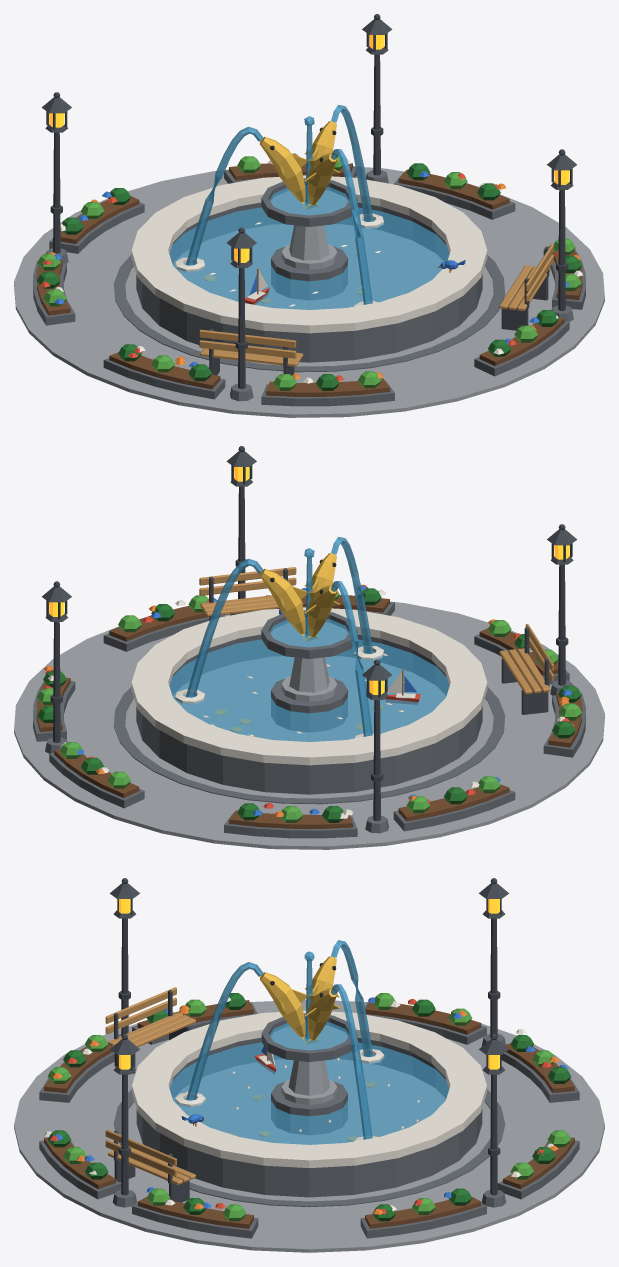
The model's file is park-fish-fountain.glb.
The picture shows the model from 3 angles, top to bottom: view 1: azimuth 30°, elevation 25°; view 2: azimuth 150°, elevation 25°; view 3: azimuth 270°, elevation 25°; orthographic projection.
Visible parts, largest first — view 1: Basin, Plaza, Flower_Beds, Water_Basin, Water_Jets, Fish_Sculpture, Bench_225, Bench_315, Lamp_Post_225, Lamp_Post_315, Lamp_Post_45, Lamp_Post_135 (+2 smaller); view 2: Basin, Plaza, Flower_Beds, Water_Basin, Water_Jets, Fish_Sculpture, Bench_225, Bench_315, Lamp_Post_135, Lamp_Post_45, Lamp_Post_225, Lamp_Post_315 (+3 smaller); view 3: Basin, Plaza, Flower_Beds, Water_Basin, Water_Jets, Fish_Sculpture, Bench_225, Bench_315, Lamp_Post_45, Lamp_Post_315, Lamp_Post_135, Lamp_Post_225 (+2 smaller).
Part boxes in pixels (x1=…): Basin: x1=131, y1=175, x2=487, y2=362; Plaza: x1=14, y1=167, x2=604, y2=417; Flower_Beds: x1=33, y1=153, x2=585, y2=406; Water_Basin: x1=169, y1=185, x2=449, y2=309; Water_Jets: x1=186, y1=104, x2=373, y2=304; Fish_Sculpture: x1=259, y1=121, x2=339, y2=209; Bench_225: x1=199, y1=328, x2=303, y2=375; Bench_315: x1=499, y1=244, x2=553, y2=330; Lamp_Post_225: x1=227, y1=227, x2=256, y2=401; Lamp_Post_315: x1=547, y1=149, x2=576, y2=321; Lamp_Post_45: x1=362, y1=14, x2=392, y2=183; Lamp_Post_135: x1=42, y1=92, x2=71, y2=263; Basin: x1=131, y1=607, x2=487, y2=794; Plaza: x1=14, y1=601, x2=604, y2=849; Flower_Beds: x1=33, y1=584, x2=585, y2=838; Water_Basin: x1=169, y1=617, x2=449, y2=741; Water_Jets: x1=186, y1=536, x2=373, y2=736; Fish_Sculpture: x1=259, y1=553, x2=339, y2=641; Bench_225: x1=499, y1=624, x2=553, y2=714; Bench_315: x1=199, y1=567, x2=303, y2=620; Lamp_Post_135: x1=362, y1=659, x2=391, y2=833; Lamp_Post_45: x1=42, y1=581, x2=71, y2=753; Lamp_Post_225: x1=547, y1=524, x2=576, y2=695; Lamp_Post_315: x1=226, y1=446, x2=256, y2=615; Basin: x1=132, y1=1010, x2=486, y2=1197; Plaza: x1=14, y1=999, x2=604, y2=1252; Flower_Beds: x1=39, y1=993, x2=579, y2=1238; Water_Basin: x1=170, y1=1020, x2=448, y2=1144; Water_Jets: x1=186, y1=940, x2=373, y2=1139; Fish_Sculpture: x1=259, y1=956, x2=339, y2=1044; Bench_225: x1=105, y1=987, x2=195, y2=1073; Bench_315: x1=105, y1=1129, x2=195, y2=1202; Lamp_Post_45: x1=479, y1=1034, x2=508, y2=1207; Lamp_Post_315: x1=110, y1=1034, x2=139, y2=1207; Lamp_Post_135: x1=479, y1=878, x2=508, y2=1046; Lamp_Post_225: x1=110, y1=878, x2=139, y2=1037.
Size of the model in its own units: 30.8 by 10.15 by 30.8.
